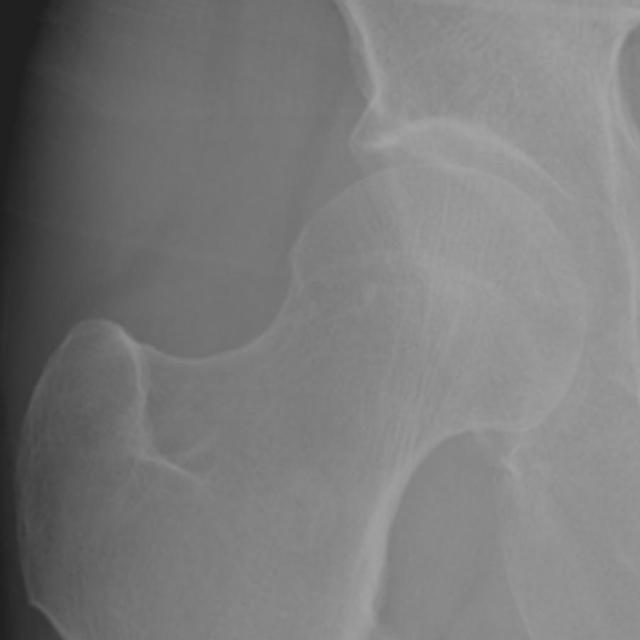Fitted_femural_head: (306, 166, 432, 306)
